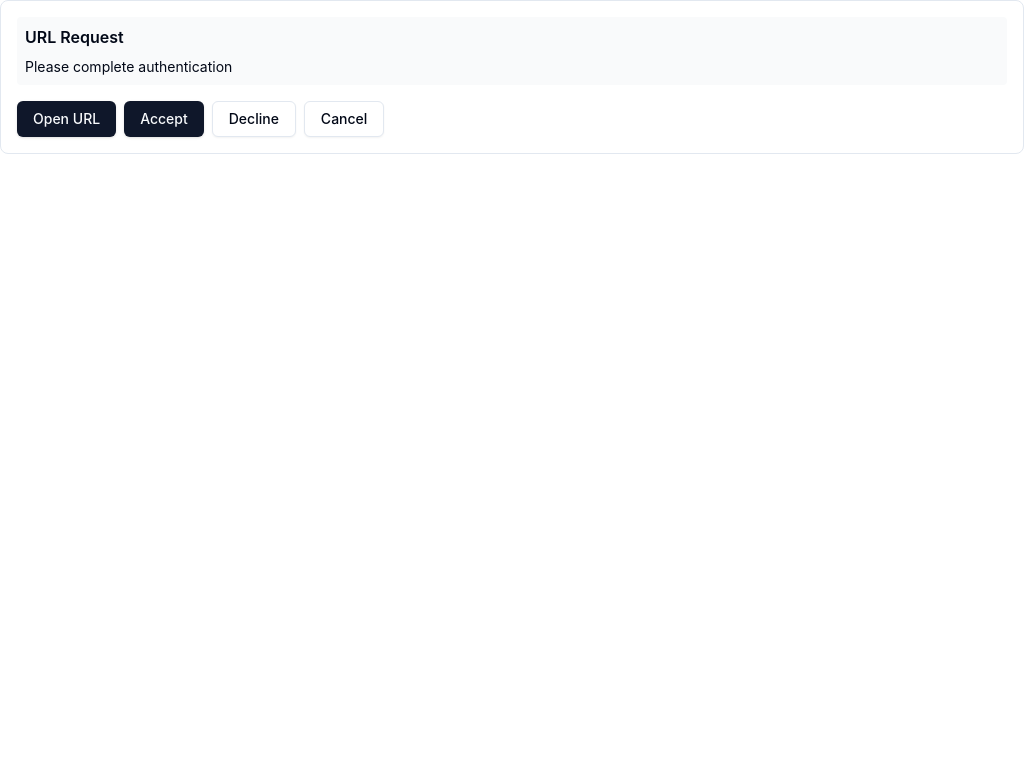
Test: ElicitationRequest › URL Mode › should show consent dialog with URL as text when Open URL is clicked
Click the button "Open URL" at (67, 119), box [17,101,116,137]
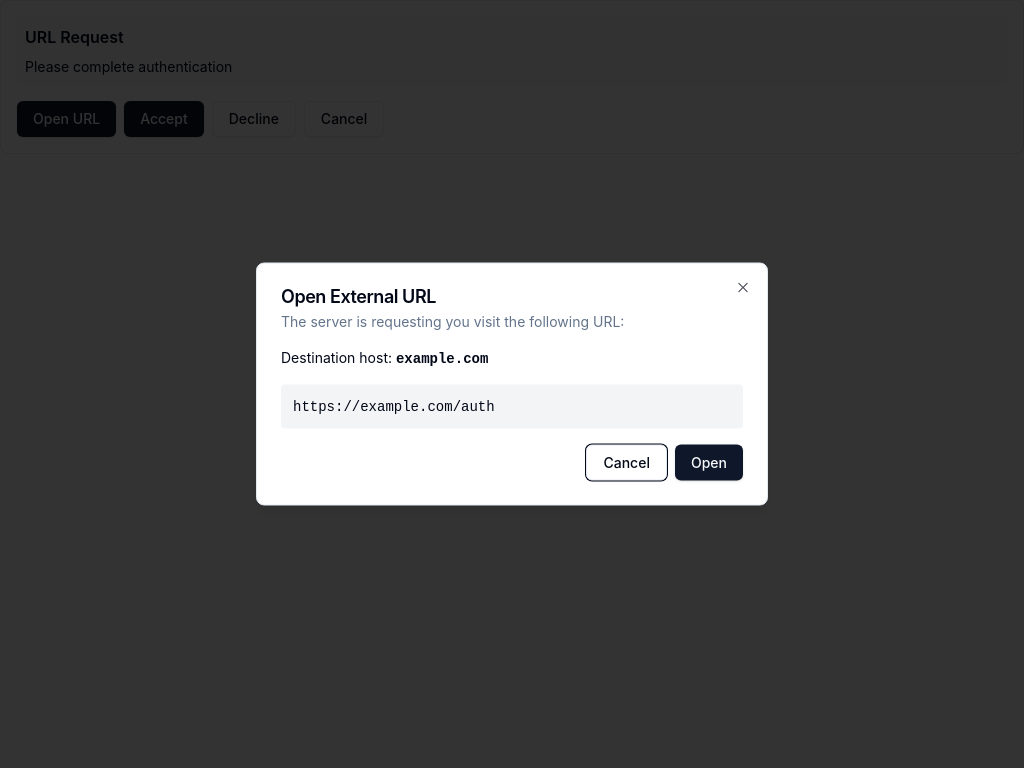
Now the text with test id "url-confirm-text" reads "https://example.com/auth", box [293,398,495,414]
Now the heading "Open External URL" is shown, box [281,286,436,306]
